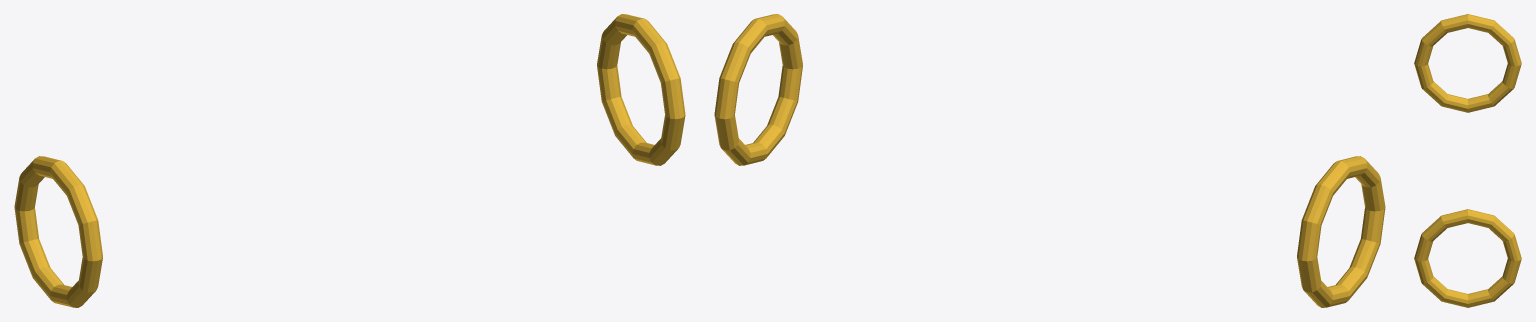
File: hoops.fbx
3 renders of one model, left to right at view 1: azimuth 30°, elevation 25°; view 2: azimuth 150°, elevation 25°; view 3: azimuth 270°, elevation 25°, orthographic. The views are drawn at different scales.
Visible parts, largest first — view 1: hoops.001; view 2: hoops.001; view 3: hoops.001.
Part boxes in pixels (x1=…): hoops.001: x1=14, y1=14, x2=685, y2=307; hoops.001: x1=714, y1=14, x2=1385, y2=307; hoops.001: x1=1414, y1=14, x2=1521, y2=307.
Bounding box in the file's own units: 23 × 23 × 102.
